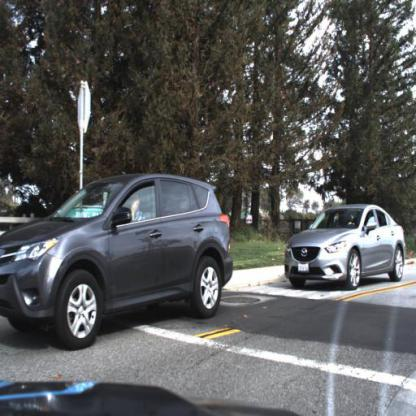car: (0, 170, 236, 350), (280, 199, 406, 289)
